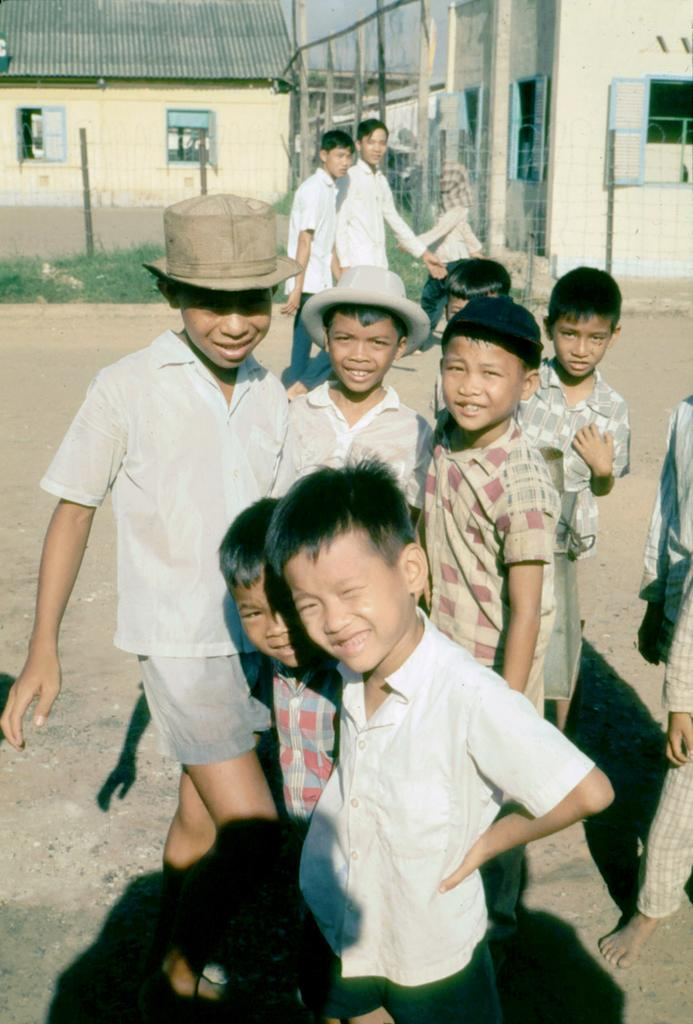Hat: (146, 194, 302, 294), (298, 264, 431, 362)
